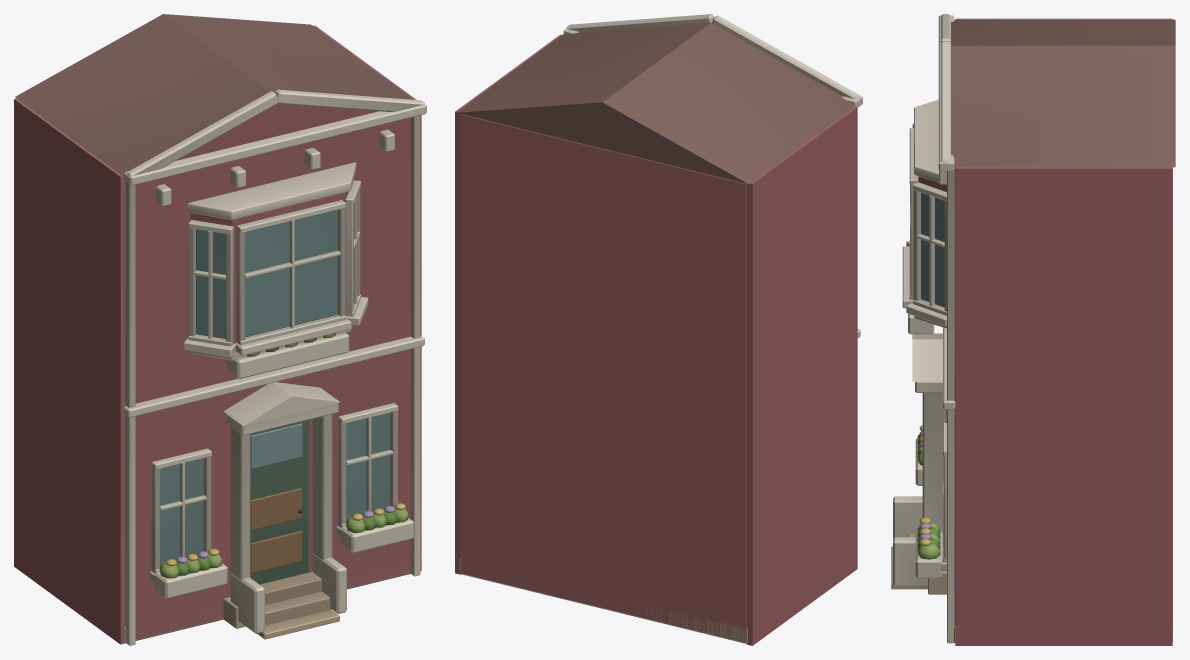
File: facade_sf_6.glb
3 renders of one model, left to right at view 1: azimuth 30°, elevation 25°; view 2: azimuth 150°, elevation 25°; view 3: azimuth 270°, elevation 25°, orthographic. The views are drawn at different scales.
Parts seen in each view (by area): view 1: facade_sf_6; view 2: facade_sf_6; view 3: facade_sf_6.
Part boxes in pixels (box(x1,y1,x2,y2)): facade_sf_6: box(14, 14, 426, 645); facade_sf_6: box(455, 14, 862, 645); facade_sf_6: box(891, 14, 1175, 645).
Bounding box in the file's own units: 4.04 × 6.67 × 3.24.
